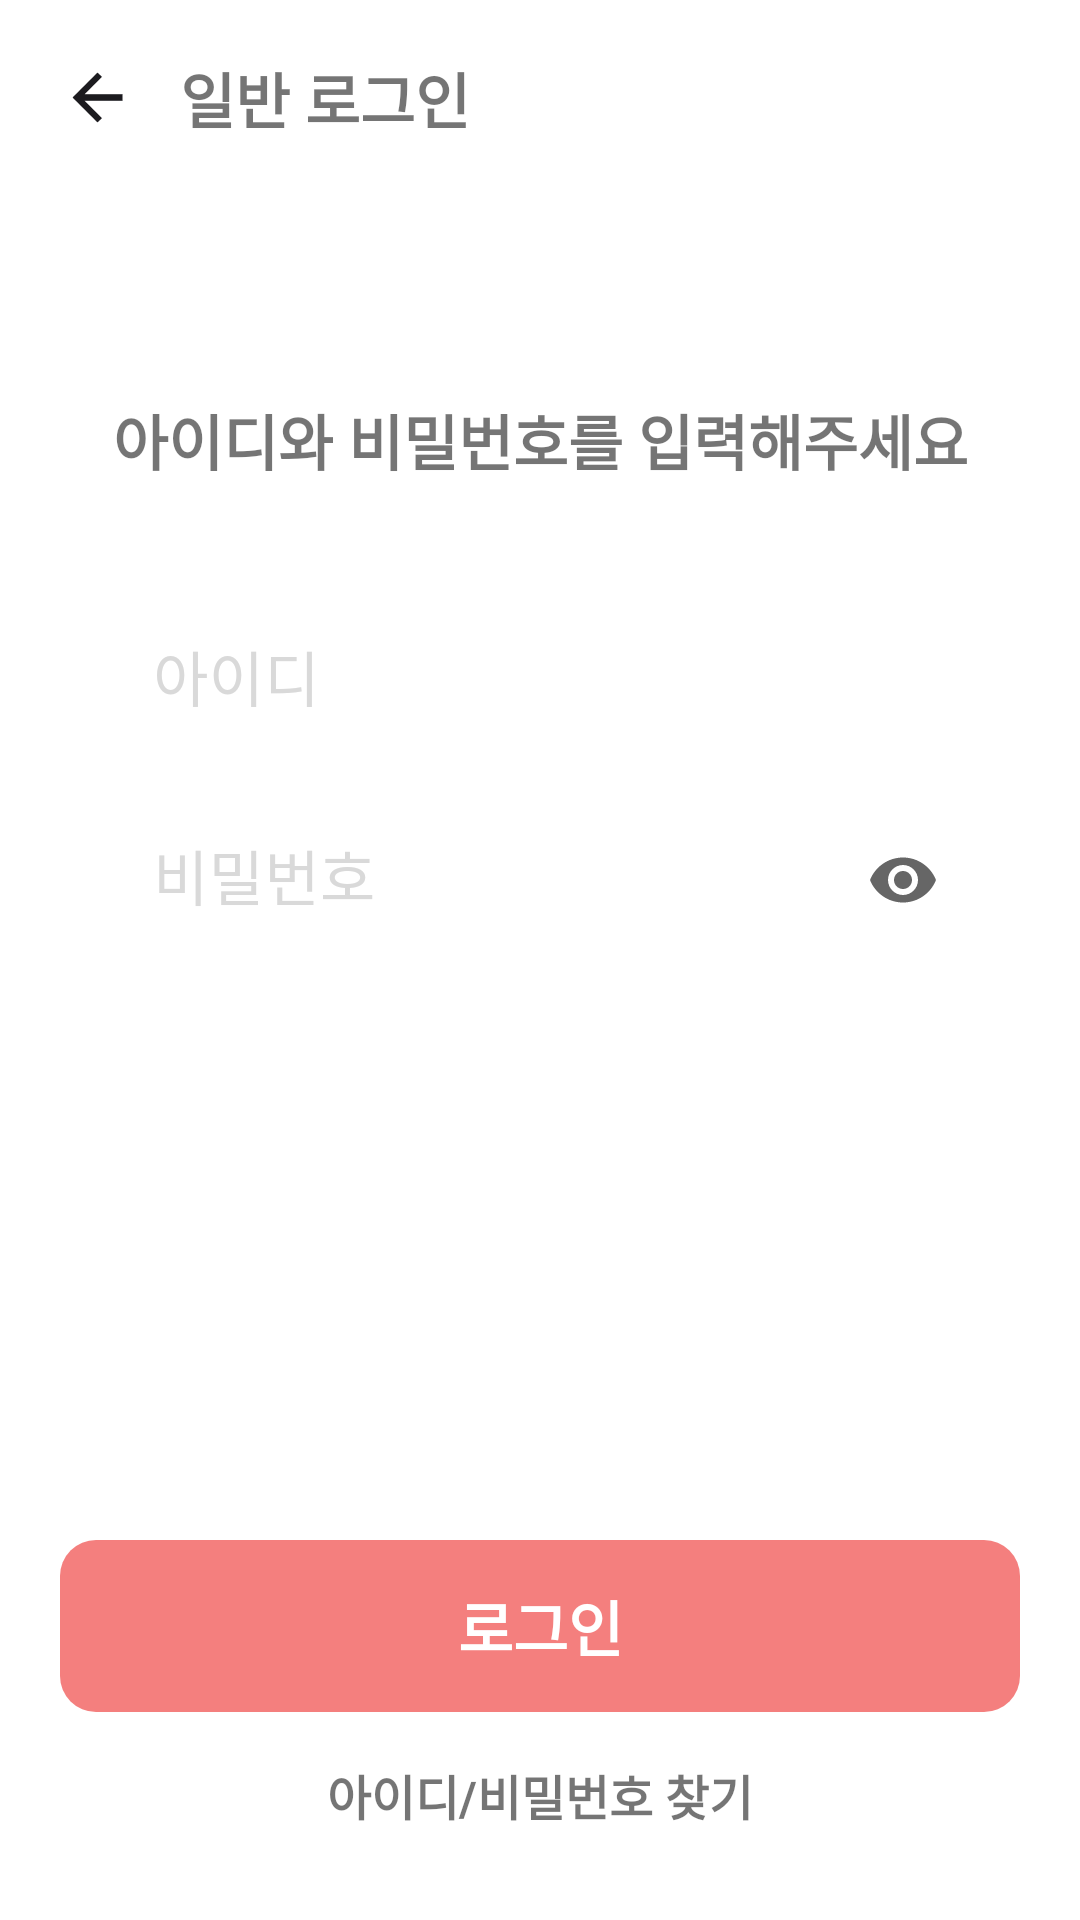

Locate icon controls on the screen. Image size 1080*1920, boxes as bbox=[x1, y1, x2, y2].
back: bbox=[72, 72, 123, 123]
